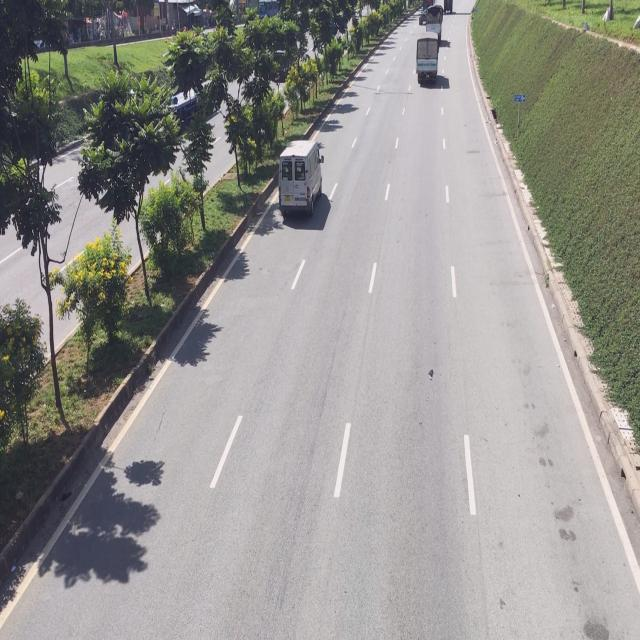bus: (278, 138, 323, 218)
truck: (415, 31, 439, 88)
